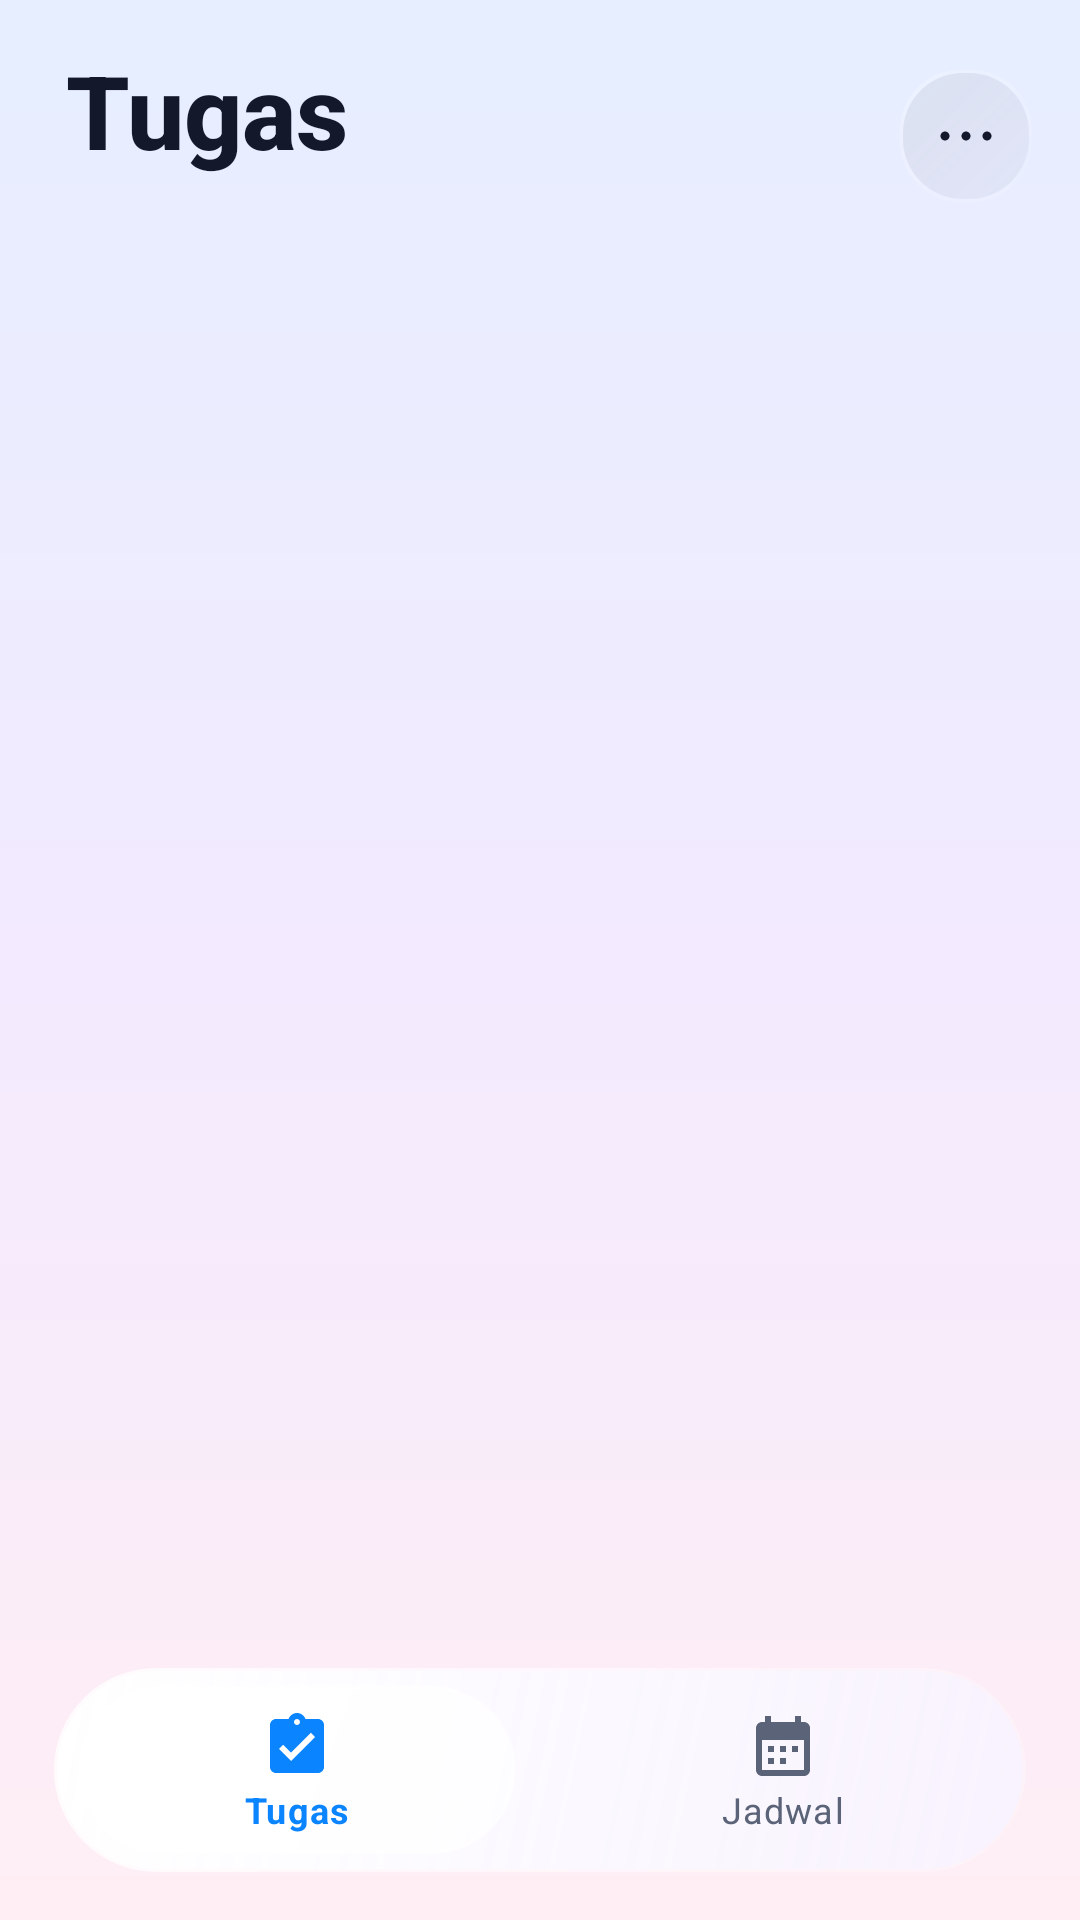

Screen size 1080w x 1920h. Icon name, then its box in pixels as {"x1": x1, "y1": y1, "x2": x2, "y2": y2}:
Menu: {"x1": 903, "y1": 73, "x2": 1029, "y2": 199}
